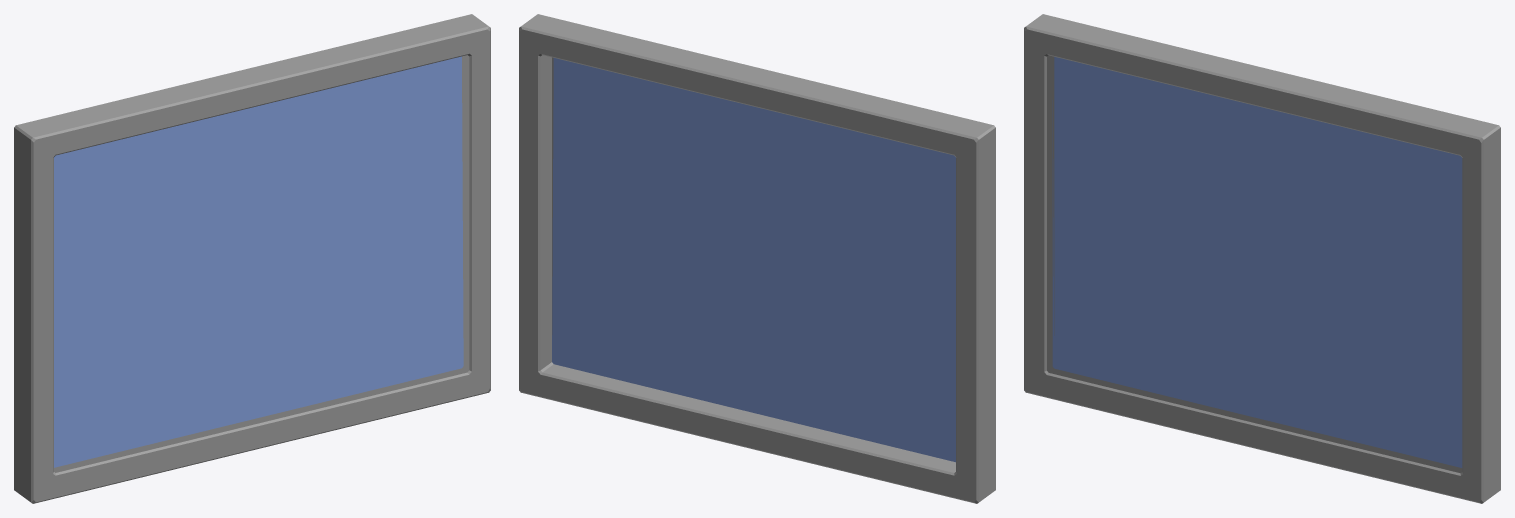
The model's file is little window.fbx.
3 views of the same model, side by side, from view 1: azimuth 30°, elevation 25°; view 2: azimuth 150°, elevation 25°; view 3: azimuth 330°, elevation 25° (orthographic).
Visible parts, largest first — view 1: Cube.354; view 2: Cube.354; view 3: Cube.354.
Part boxes in pixels (x1,y1,x2,y2): Cube.354: (14,14,490,503); Cube.354: (519,14,995,503); Cube.354: (1024,14,1500,503).
Bounding box in the file's own units: 5.42 × 4.13 × 0.3847.
